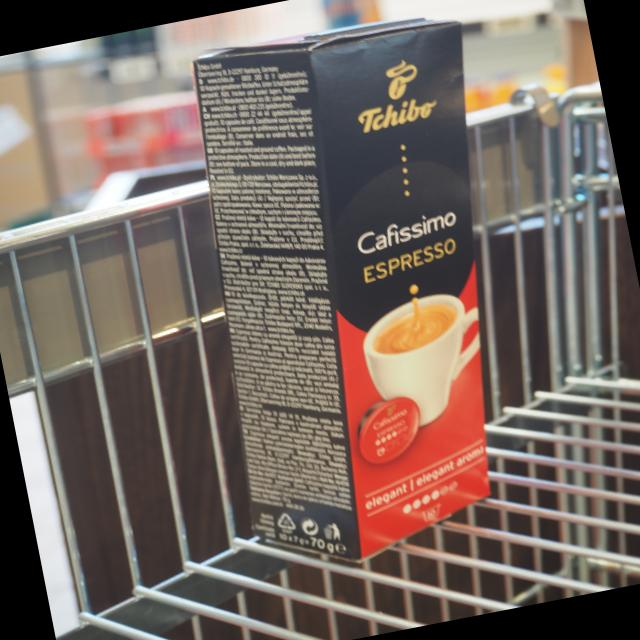Simo Es Elegant: (289, 10, 502, 575)
